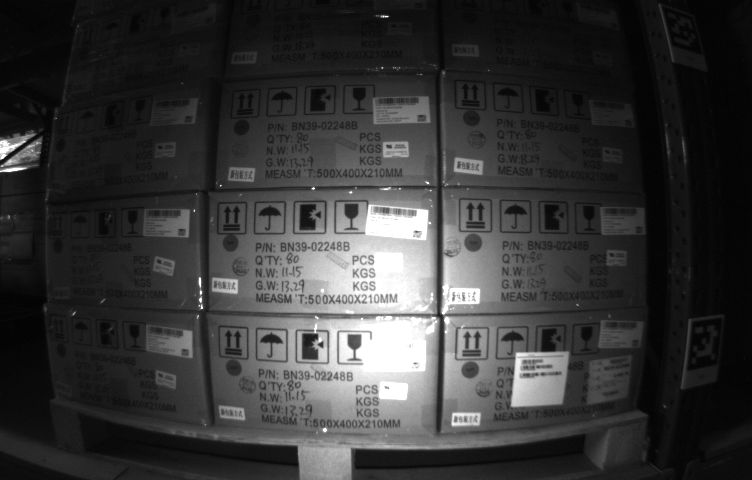True Barcode: (588, 360, 632, 402)
